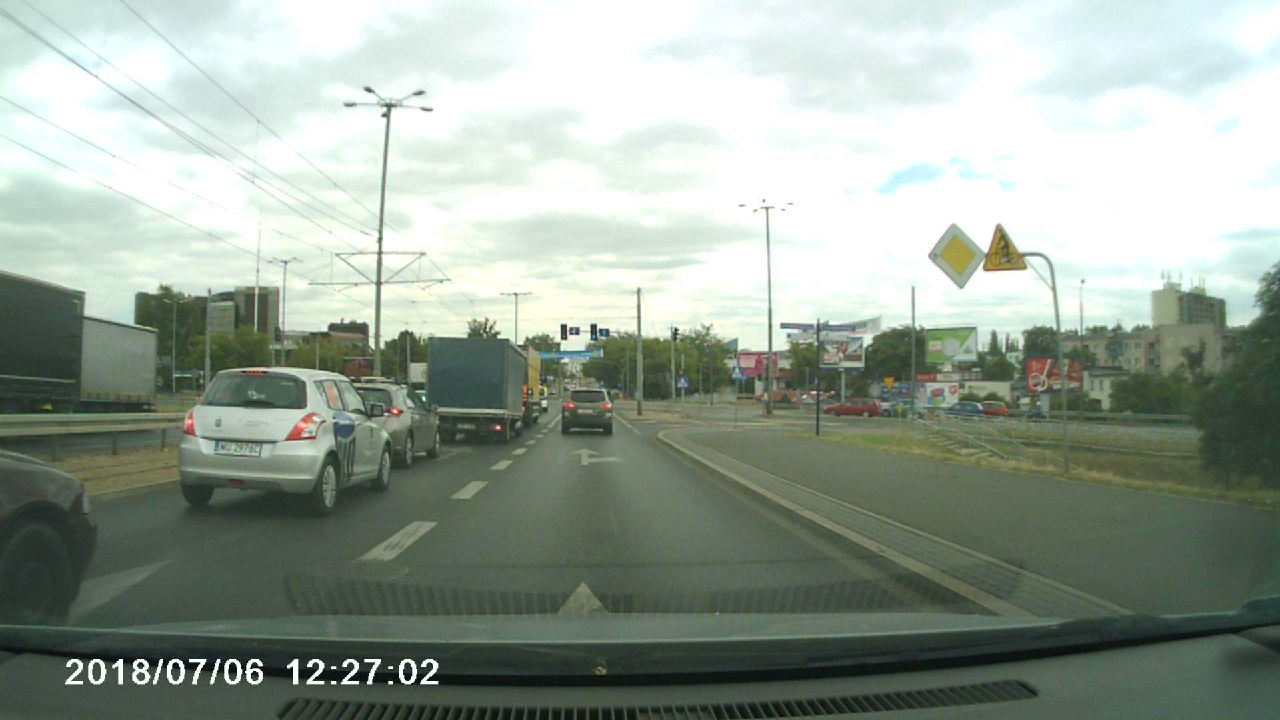D1: (929, 223, 987, 288)
